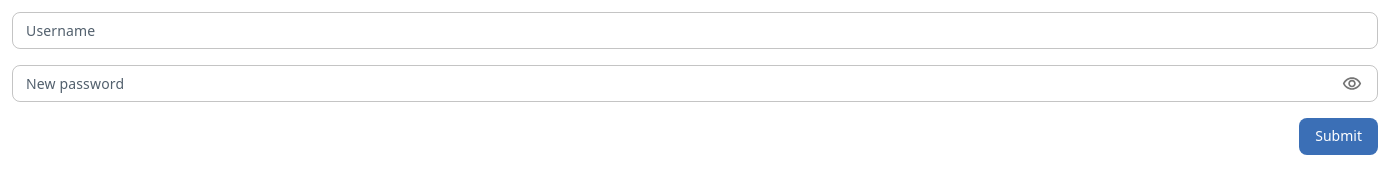
AppForm › shows Yup errors and does not submit invalid values
Step 1. Click the button "Submit" → point(1339, 137), box [1299,118,1378,155]
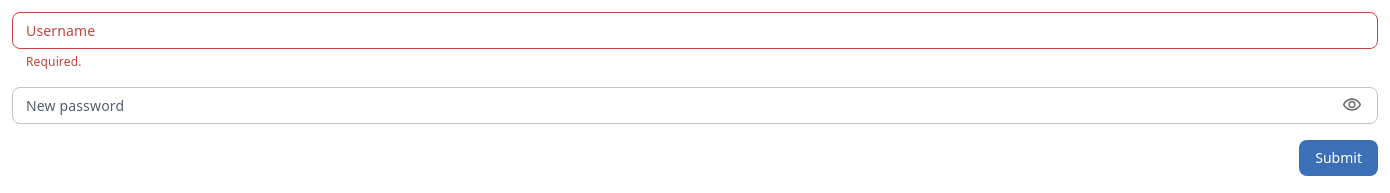
Check: the text "Required." is shown, box [26,53,82,70]
